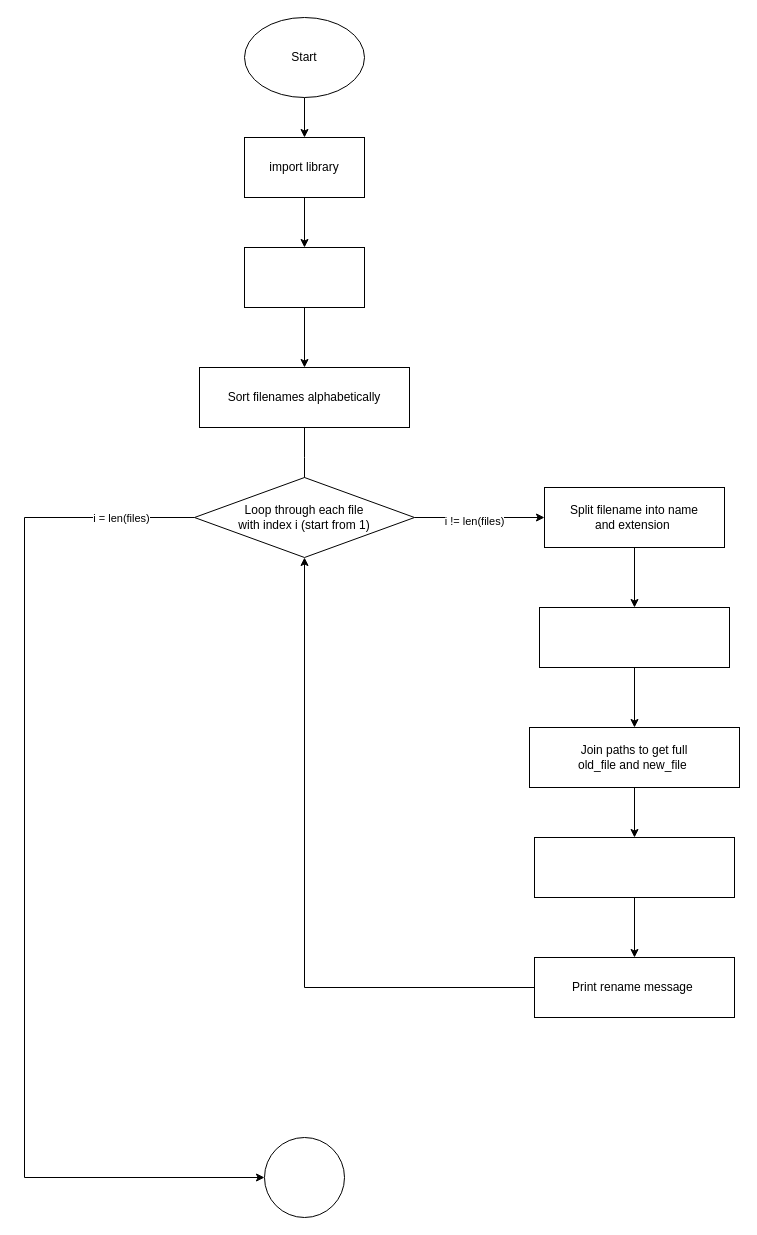
Image size: 757x1235. Some labels were removed from this diagram. The shapes that lost their labels are listed below. From the top down, each one's centre as x and y in pixels, then its label:
(x=304, y=277): read all file from folder path
(x=634, y=637): Create new filename using prefix + "_" + i + ext
(x=634, y=867): Rename old_file -> new_file
(x=304, y=1177): end
